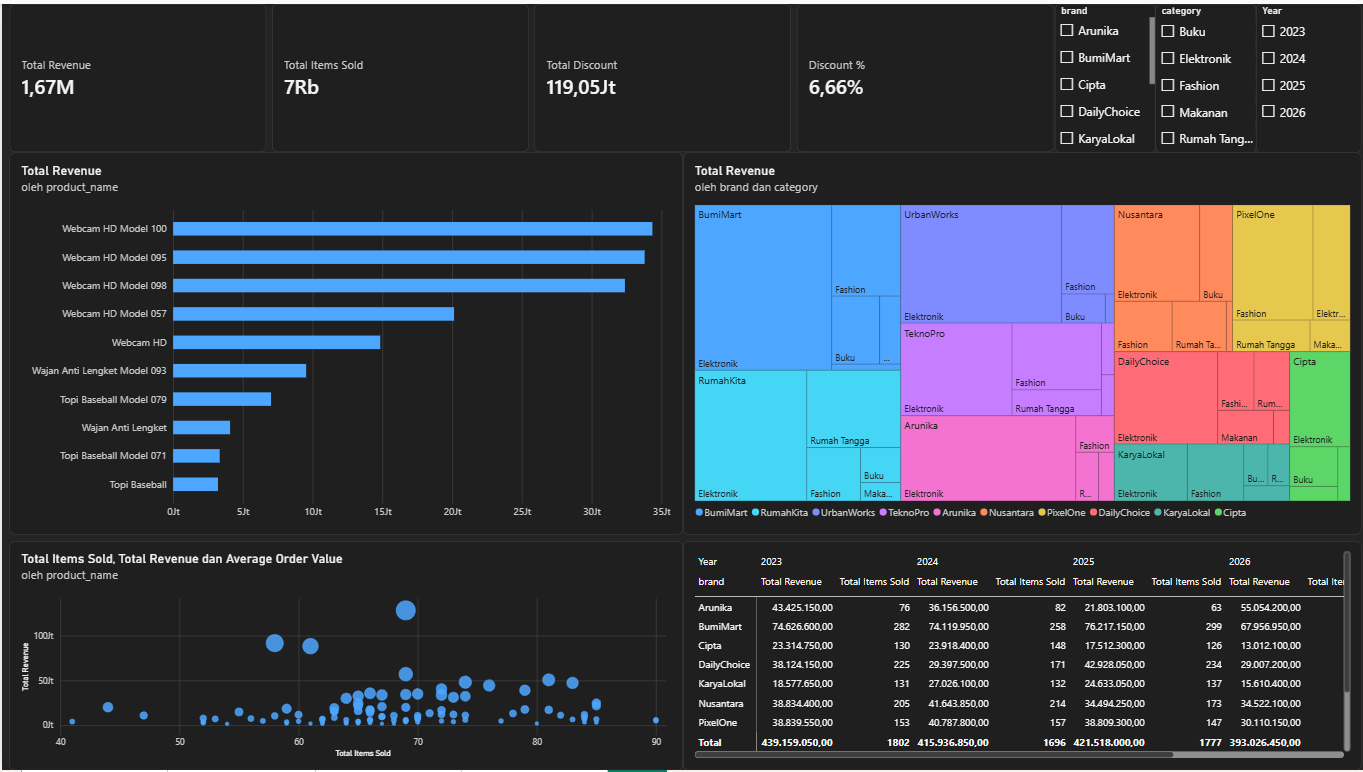

Layout of this report page (visuals, bound fields, positions):
{"tool":"powerbi","page":{"name":"Halaman 2","canvas":[1920,1080],"ordinal":1},"visuals":[{"type":"cardVisual","fields":{"Data":["fact_penjualan.Total Revenue","fact_penjualan.Total Items Sold","fact_penjualan.Total Discount","fact_penjualan.Discount %"]},"box":[11.3,0,1474,209.8],"z":0},{"type":"barChart","fields":{"Category":["dim_product.product_name"],"Y":["fact_penjualan.Total Revenue"]},"box":[11.3,209.8,949.6,538.6],"z":1},{"type":"treemap","fields":{"Details":["dim_product.category"],"Group":["dim_product.brand"],"Values":["fact_penjualan.Total Revenue"]},"box":[961,209.8,958.1,538.6],"z":2},{"type":"scatterChart","fields":{"Category":["dim_product.product_name"],"Size":["fact_penjualan.Average Order Value"],"X":["fact_penjualan.Total Items Sold"],"Y":["fact_penjualan.Total Revenue"]},"box":[11.3,756.9,949.6,323.2],"z":3},{"type":"pivotTable","fields":{"Columns":["dim_date.Year"],"Rows":["dim_product.brand"],"Values":["fact_penjualan.Total Revenue","fact_penjualan.Total Items Sold"]},"box":[961,757,958,323],"z":4},{"type":"slicer","fields":{"Values":["dim_product.brand"]},"box":[1485.4,0,141.7,209.8],"z":5},{"type":"slicer","fields":{"Values":["dim_product.category"]},"box":[1627.1,0,141.7,209.8],"z":6},{"type":"slicer","fields":{"Values":["dim_date.Year"]},"box":[1768.8,0,150.2,209.8],"z":7}]}

Visuals, with their boxes in screenshot pixels (x1, y1, x2, y2), scaled from the page's 1920x1080 canvas onto the 1363x772 screenshot:
cardVisual - fact_penjualan.Total Revenue x fact_penjualan.Total Items Sold: region(8, 0, 1054, 150)
barChart - dim_product.product_name x fact_penjualan.Total Revenue: region(8, 150, 682, 535)
treemap - dim_product.category x dim_product.brand: region(682, 150, 1362, 535)
scatterChart - dim_product.product_name x fact_penjualan.Average Order Value: region(8, 541, 682, 771)
pivotTable - dim_date.Year x dim_product.brand: region(682, 541, 1362, 771)
slicer - dim_product.brand: region(1054, 0, 1155, 150)
slicer - dim_product.category: region(1155, 0, 1256, 150)
slicer - dim_date.Year: region(1256, 0, 1362, 150)
